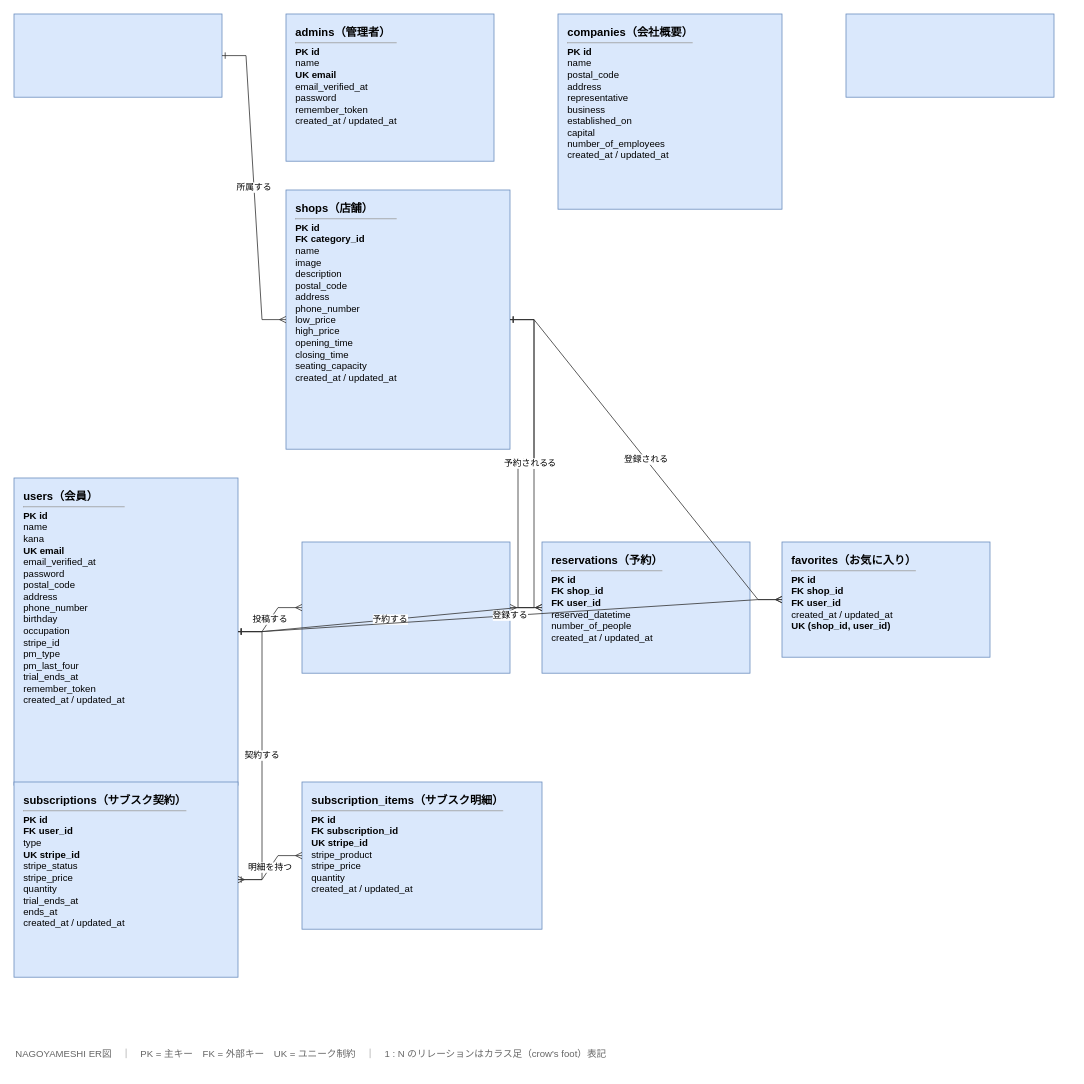
This 1084x1084 diagram has some shape labels left out. Here are the shapes that lost their labels. From the top down, the centre of each, then its label:
(x=117, y=55): categories（カテゴリ） PK id name created_at / updated_at
(x=949, y=55): terms（利用規約） PK id content created_at / updated_at
(x=405, y=607): reviews（レビュー） PK id FK shop_id FK user_id score content created_at / updated_at
